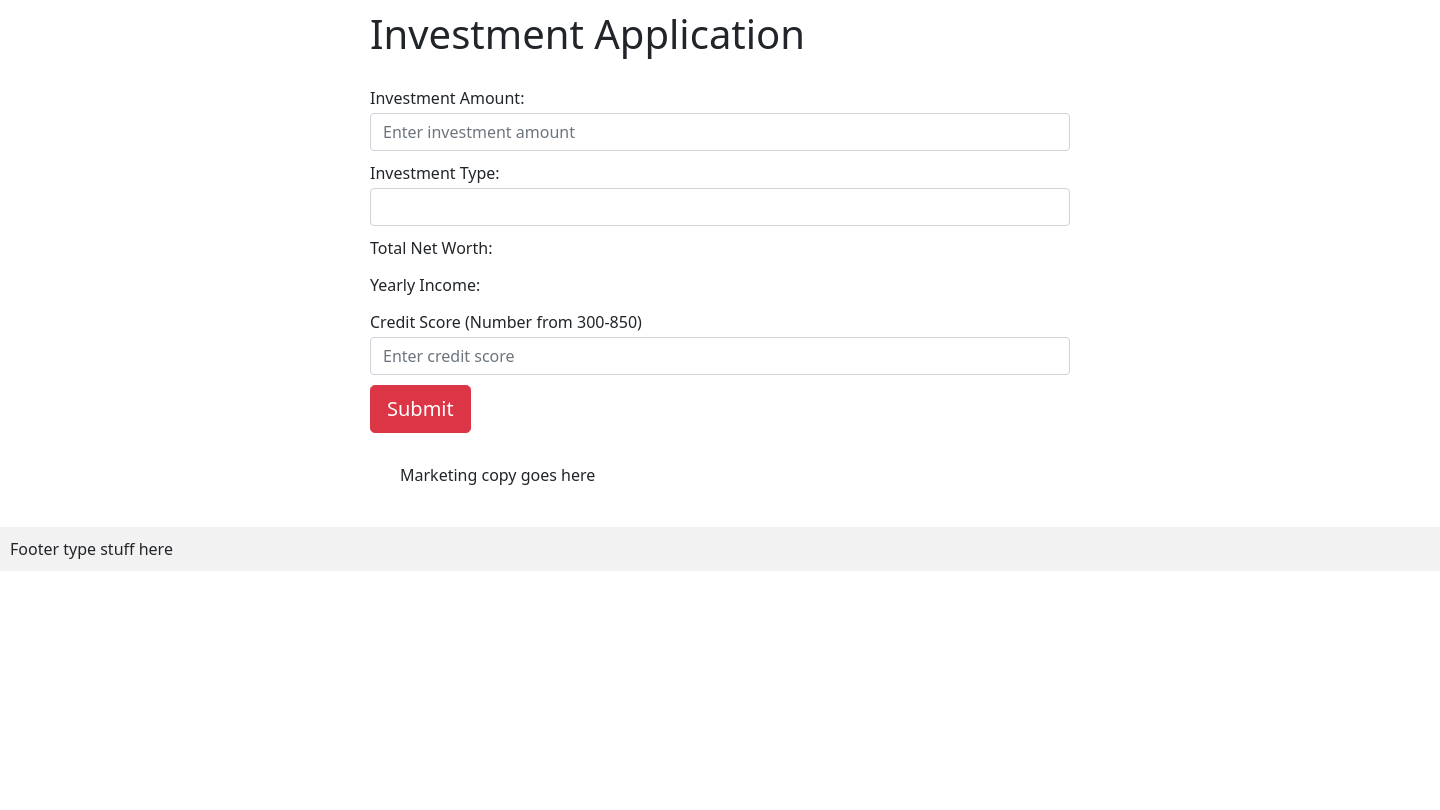
test invalid investment amount show warning
The width and height of the screenshot is (1440, 810).
Type "ABC.00" into the field with id "investment-amount" at [720, 132], box [370, 113, 1070, 151]
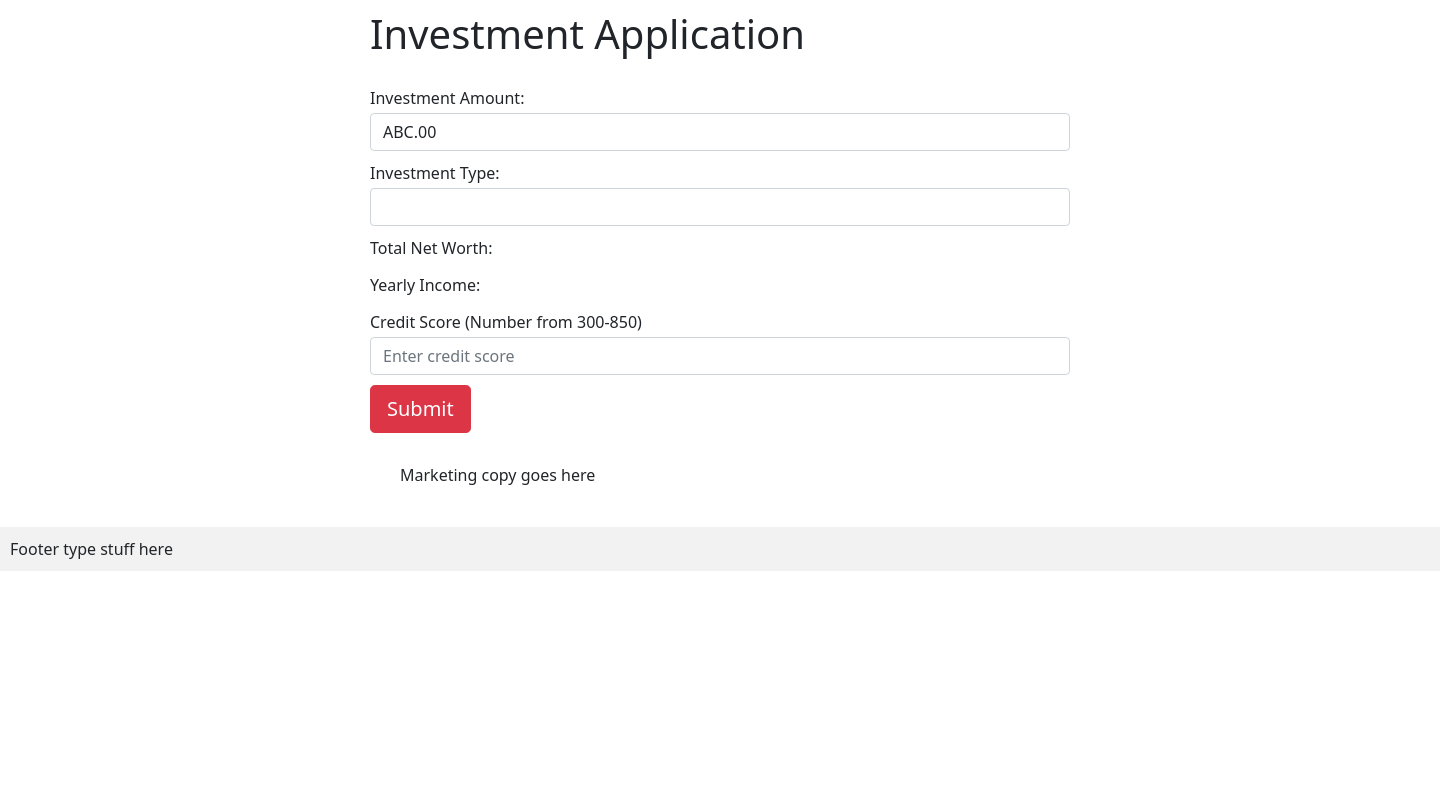
Click the button "Submit" at [420, 409], box [370, 385, 471, 433]
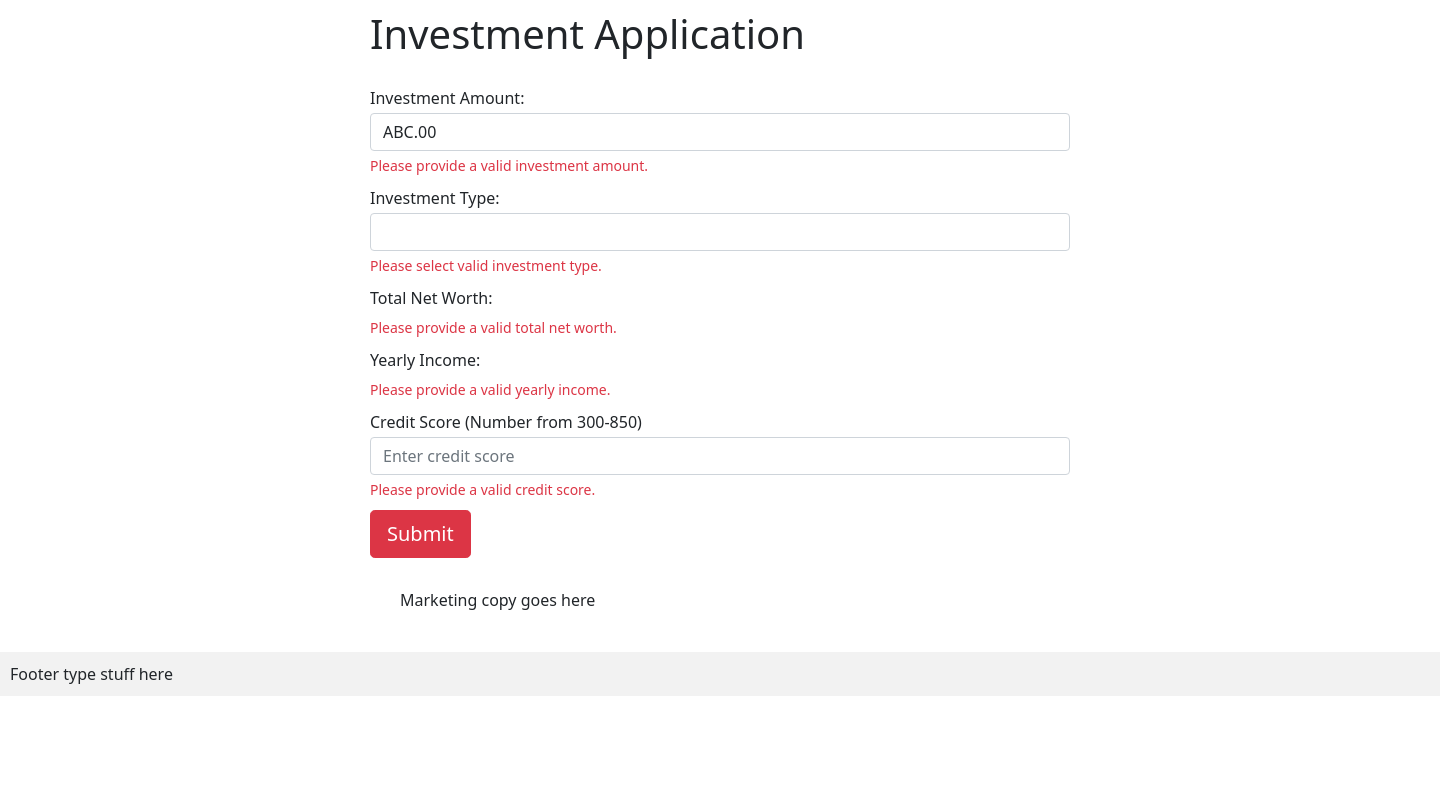
Check: the text "Please provide a valid investment amount." is shown, box [370, 156, 648, 175]
